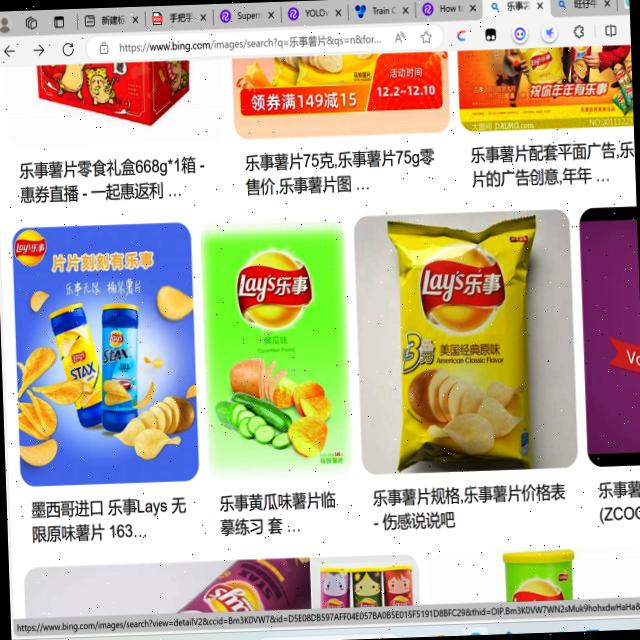lay-s_chip: (420, 245, 506, 336), (235, 248, 314, 328), (13, 228, 48, 268)
